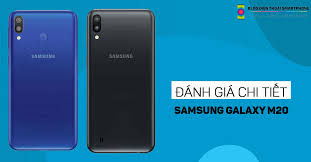samsung: (87, 6, 158, 154), (9, 9, 78, 151)
